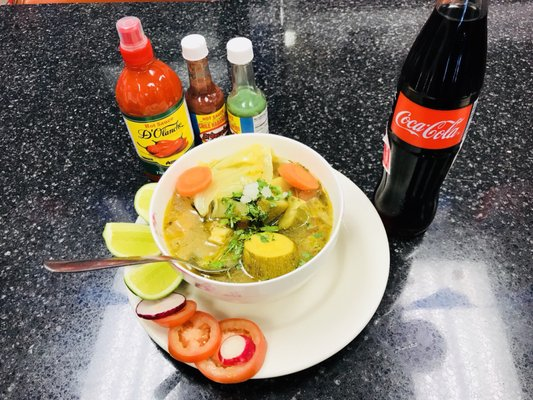sushi: (141, 131, 346, 307)
taco: (167, 314, 268, 384)
